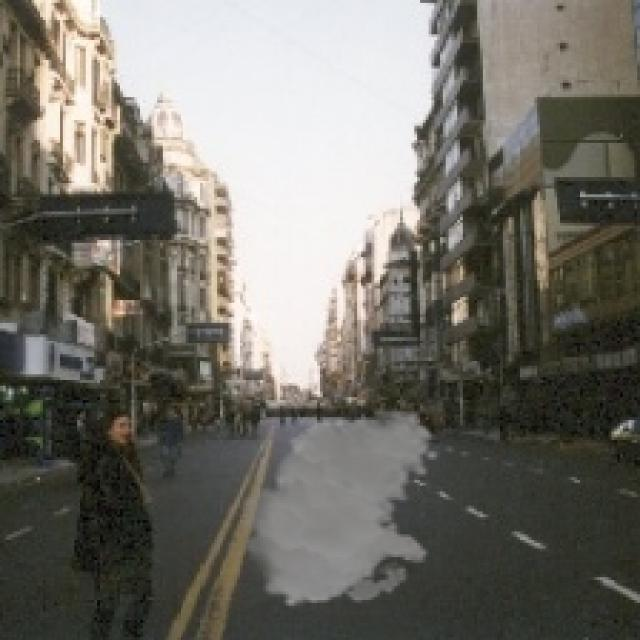Smoke: (235, 408, 440, 608)
